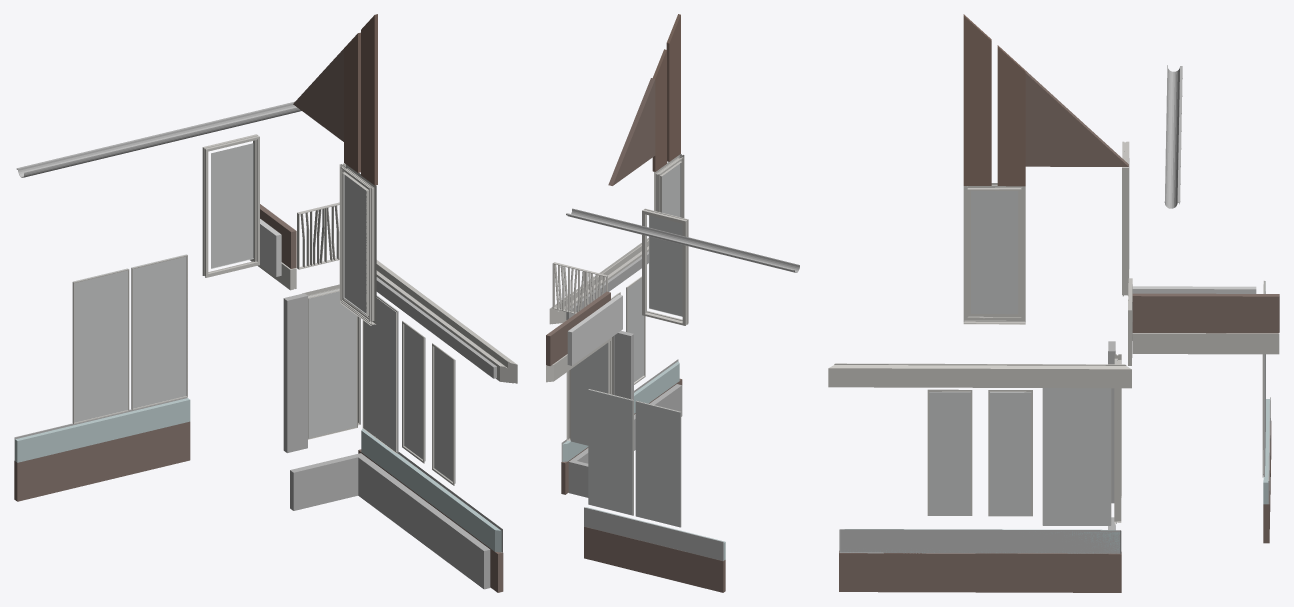
3 renders of one model, left to right at view 1: azimuth 30°, elevation 25°; view 2: azimuth 150°, elevation 25°; view 3: azimuth 270°, elevation 25°, orthographic. The views are drawn at different scales.
Size of the model in its own units: 6.13 by 9.84 by 7.37.
